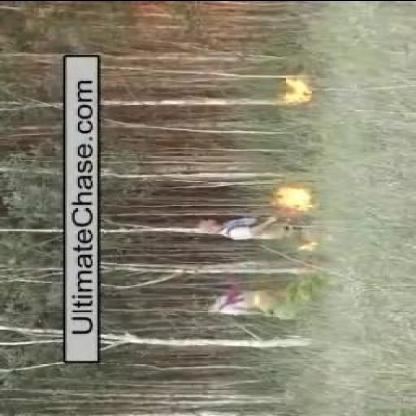foggia-v2-map80-epoch100 - v1 4323: (285, 78, 313, 102), (280, 187, 312, 208)
